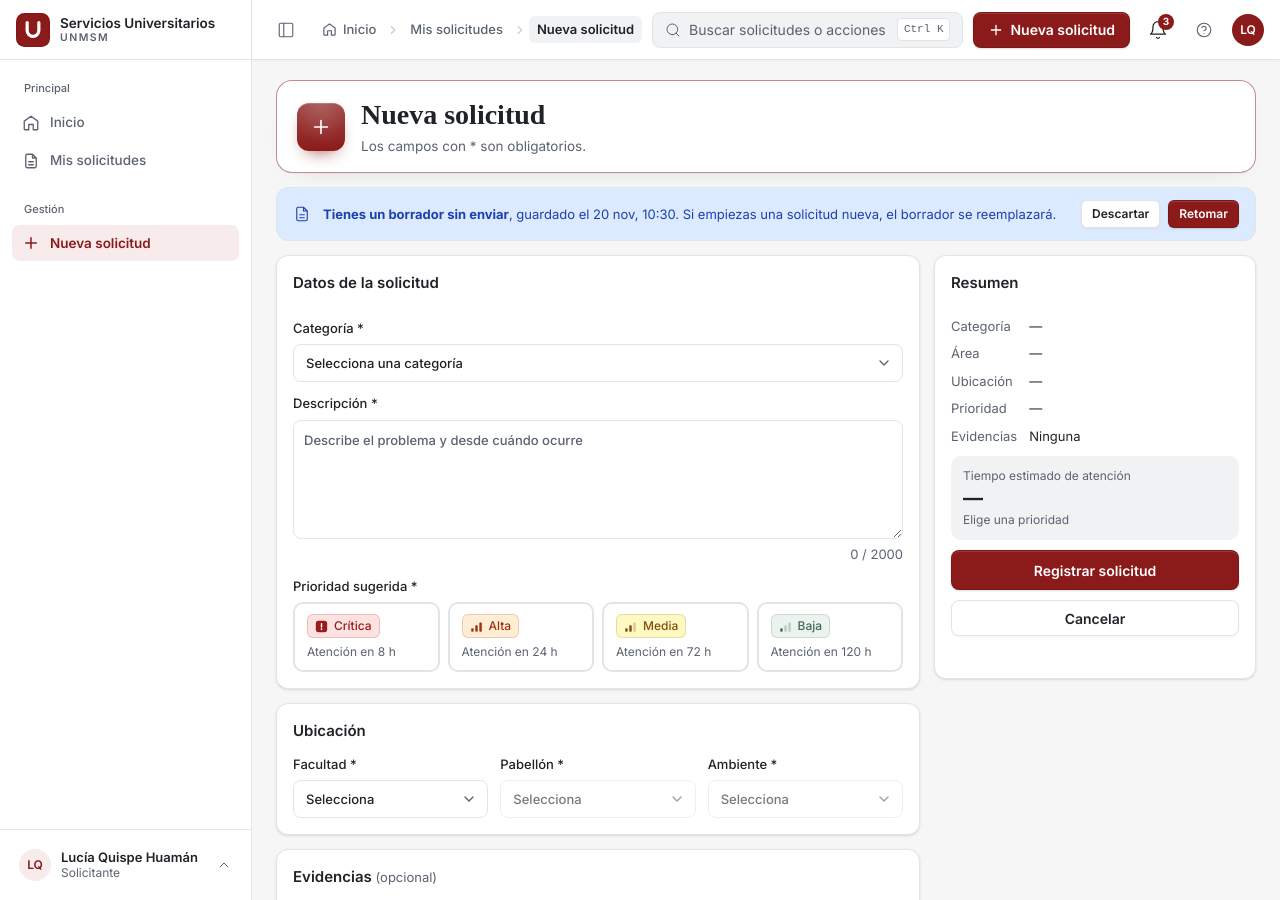
Test case: Borrador de «Nueva solicitud» › ofrece retomar el borrador y lo deja como estaba, avisando de las evidencias
Click the button "Retomar" at (1204, 214), box x1=1168 y1=200 x2=1239 y2=228
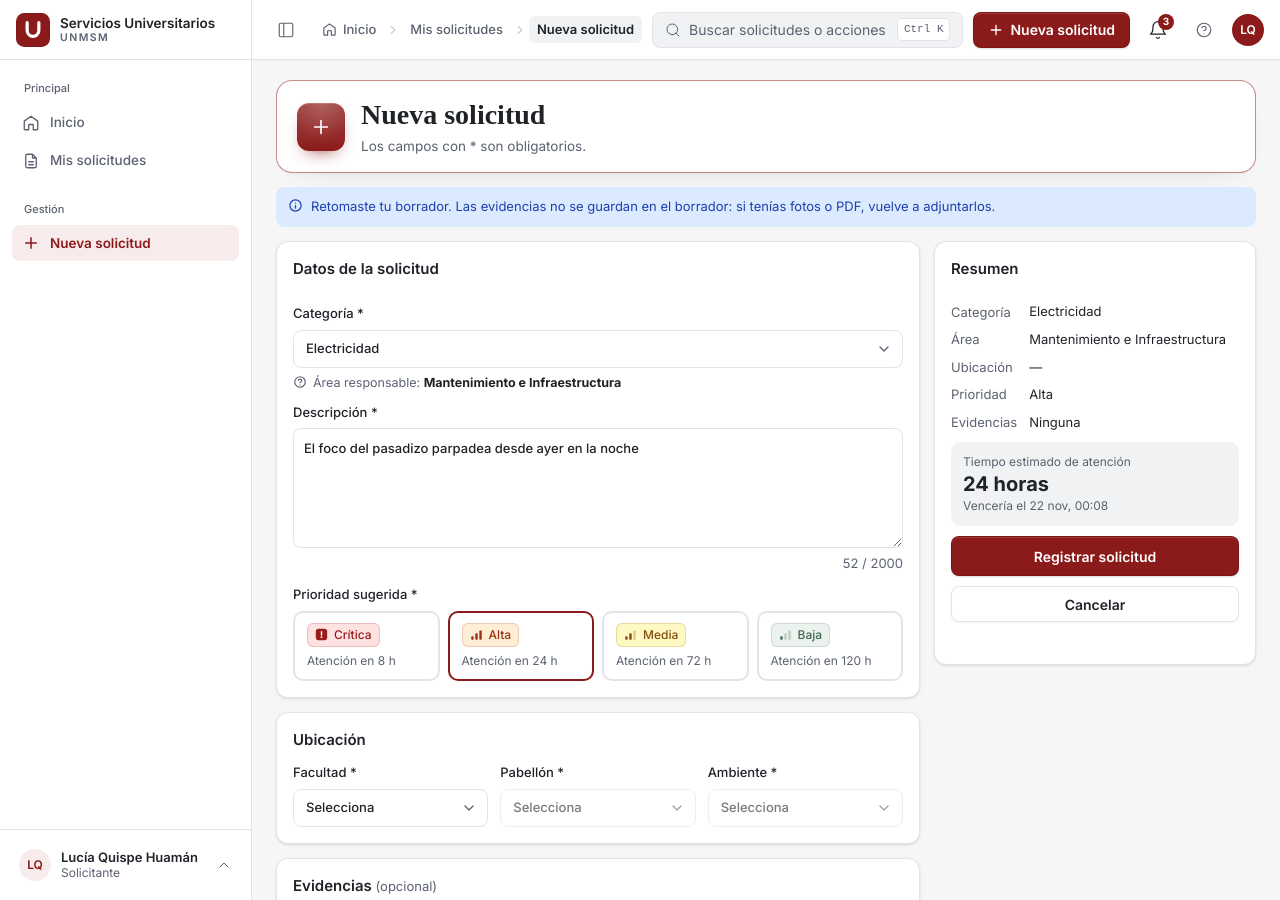
Now the text box labelled "Descripción *" holds "El foco del pasadizo parpadea desde ayer en la noche", box x1=293 y1=428 x2=903 y2=548
Now the dropdown labelled "Categoría *" shows "Electricidad", box x1=293 y1=330 x2=903 y2=368
Now the text "Las evidencias no se guardan en el borrador" is shown, box x1=311 y1=198 x2=995 y2=214
